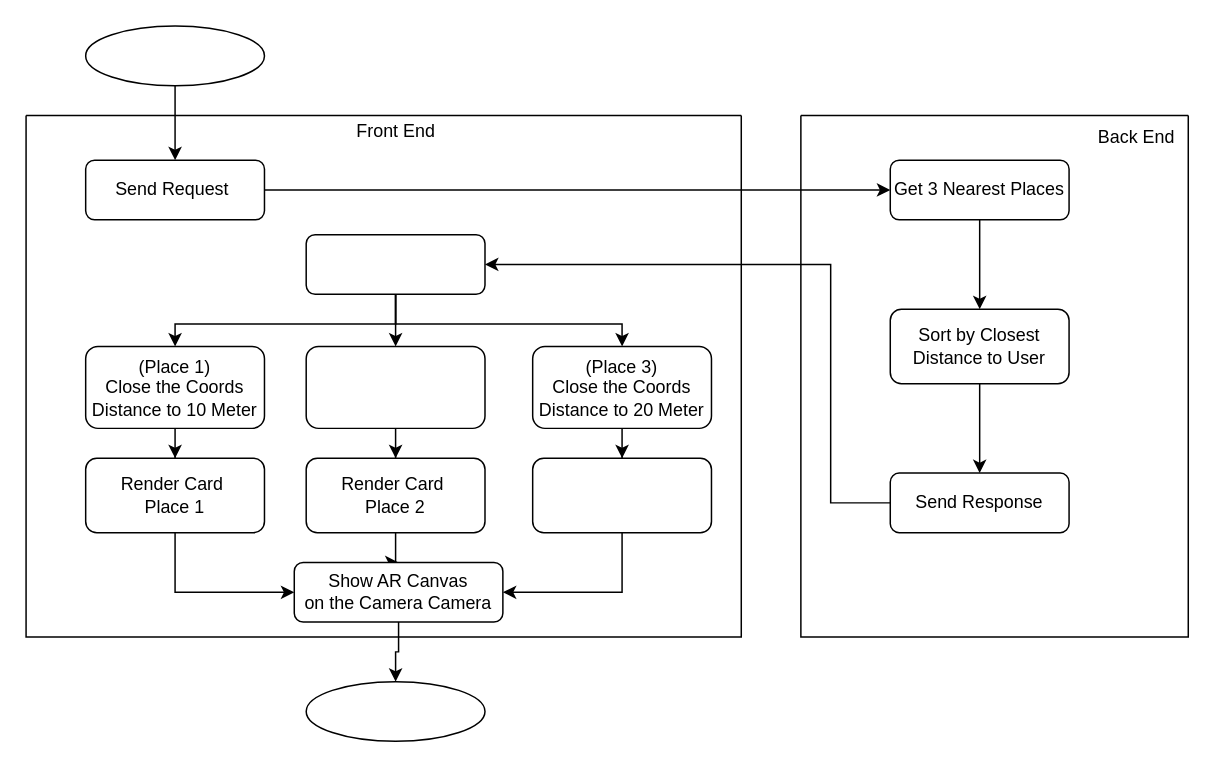
The diagram is 1214 pixels wide and 767 high, and some of its shapes have lost their labels. The centre of each missing label's shape, as x and y in pixels:
"(Place 2) Close the Coords Distance to 15 Meter" belongs at point (395, 386).
"AR.js Initialization" belongs at point (395, 263).
"Finish" belongs at point (395, 710).
"Render Card Place 3" belongs at point (621, 495).
"Start" belongs at point (174, 55).
